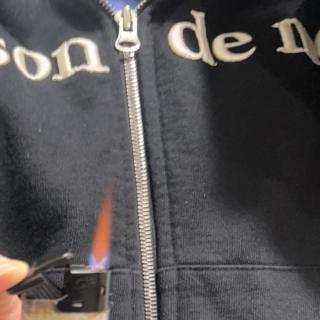fire: (90, 196, 114, 268)
